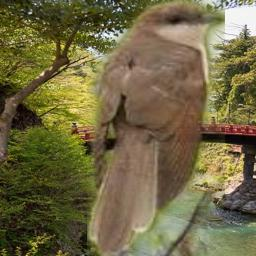Cuckoo: (87, 0, 225, 256)
